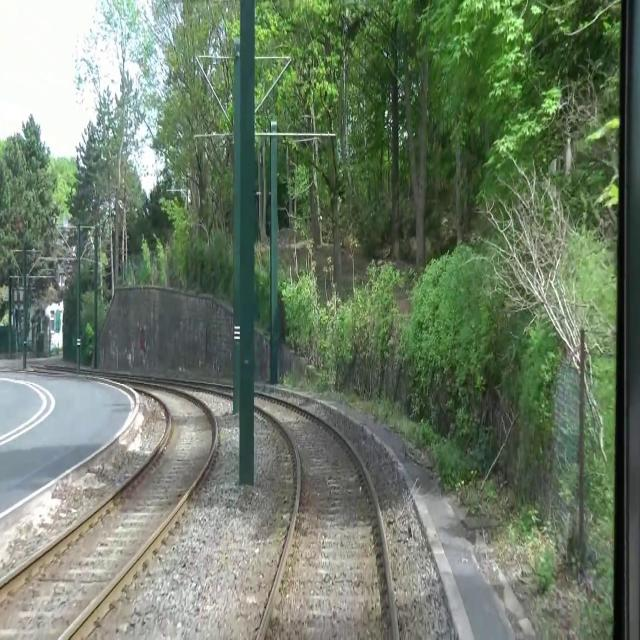rail-track: (0, 386, 214, 639), (253, 395, 394, 639)
